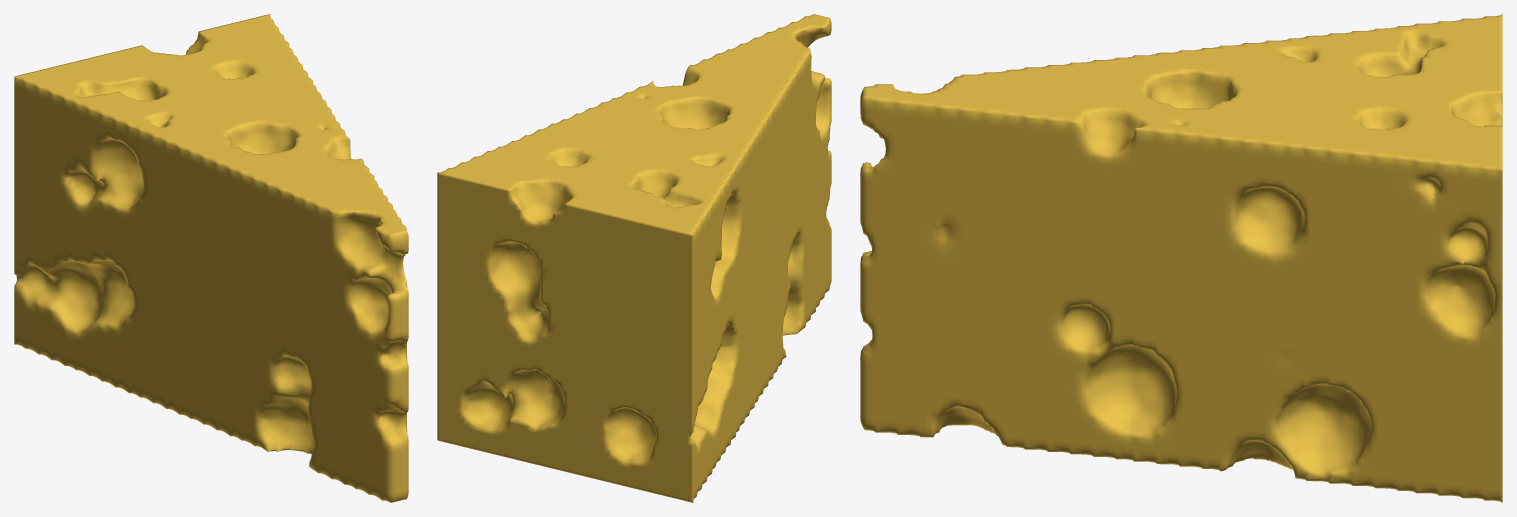
The model's file is cheese.fbx.
3 renders of one model, left to right at view 1: azimuth 30°, elevation 25°; view 2: azimuth 150°, elevation 25°; view 3: azimuth 270°, elevation 25°, orthographic. The views are drawn at different scales.
Parts seen in each view (by area): view 1: Cube; view 2: Cube; view 3: Cube.
Part boxes in pixels (box(x1,y1,x2,y2)): Cube: box(14, 14, 408, 502); Cube: box(437, 14, 831, 502); Cube: box(860, 14, 1502, 502).
Bounding box in the file's own units: 200 × 200 × 349.
